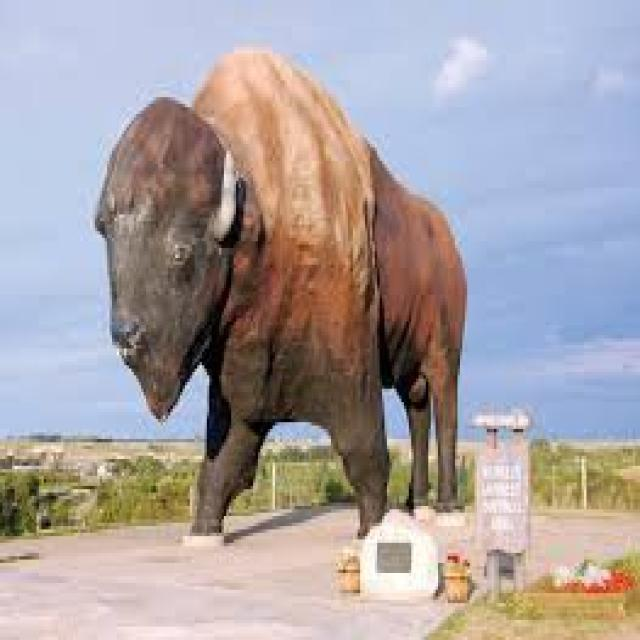Bison: (86, 34, 483, 553)
